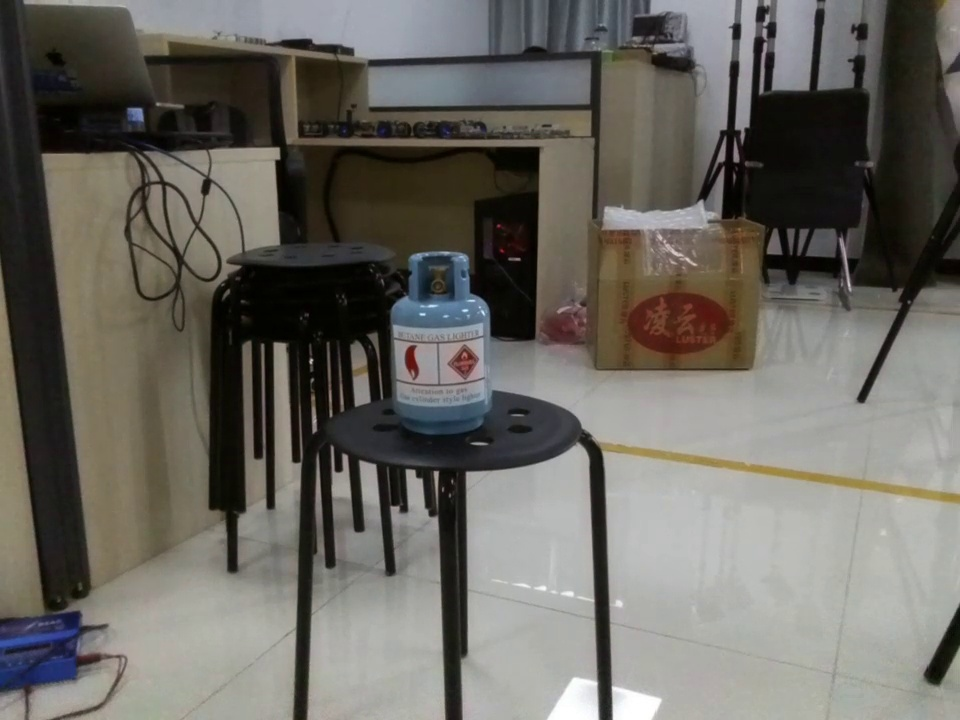gas tank: (388, 251, 499, 438)
